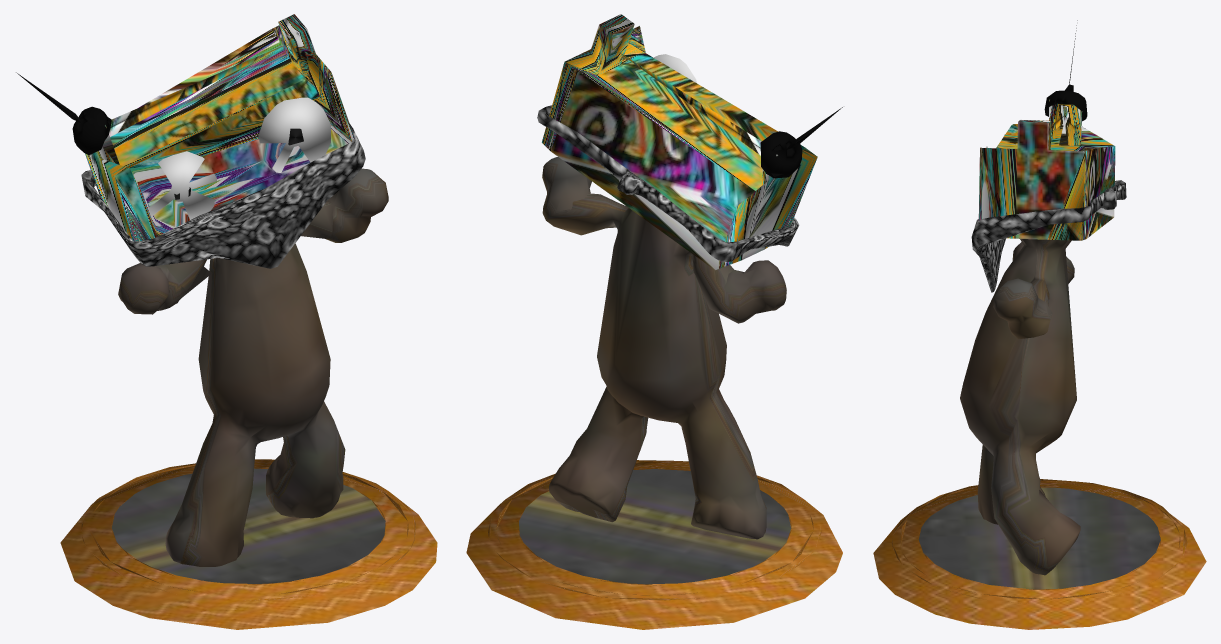
The picture shows the model from 3 angles, left to right: view 1: azimuth 30°, elevation 25°; view 2: azimuth 150°, elevation 25°; view 3: azimuth 270°, elevation 25°; orthographic projection. The views are drawn at different scales.
Size of the model in its own units: 1.66 by 2.19 by 1.44.
Materials: 8 (5 with a texture image).
